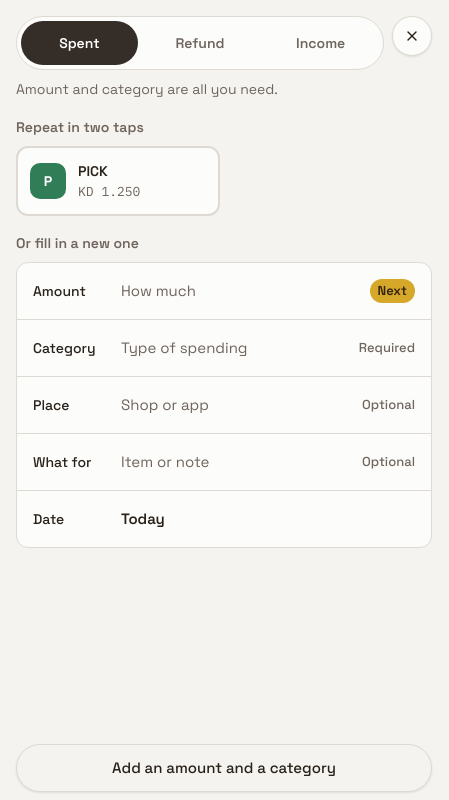
Test: /log — typing an amount (MOB-R69 E4) › keys are ignored while another text field has focus
expect the button "P PICK KD 1.250" is shown: met, box [16, 146, 220, 216]
Click the button "What for Item or note Optional" at (62, 462), box [17, 434, 431, 490]
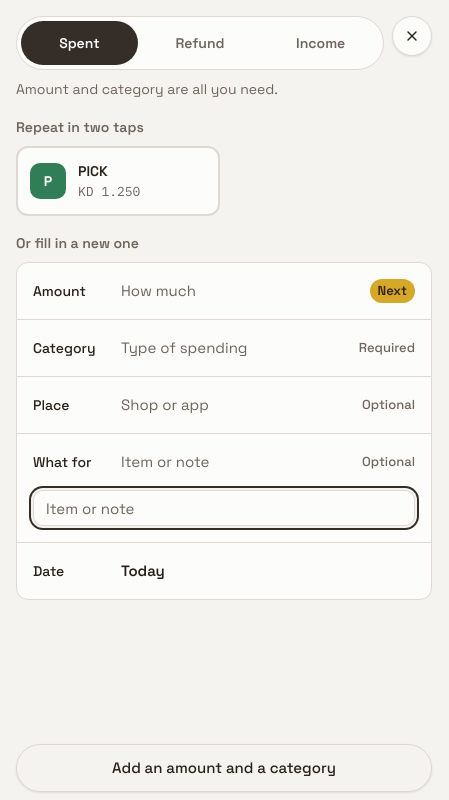
Press 5 in the field named "What for", box [33, 490, 415, 526]
Click the button "Amount How much Next" at (59, 291), box [17, 263, 431, 319]
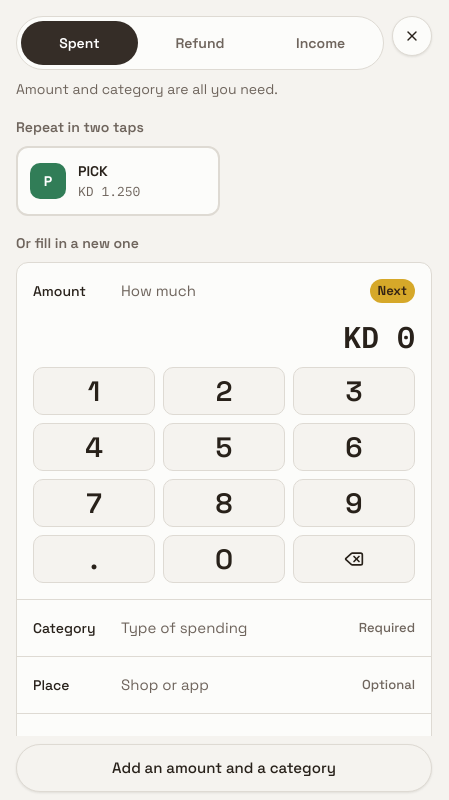
expect the text with test id "log-amount" does not show "KD 5": met, box [343, 317, 415, 356]
expect the text with test id "log-amount" reads "KD 0": met, box [343, 317, 415, 356]
